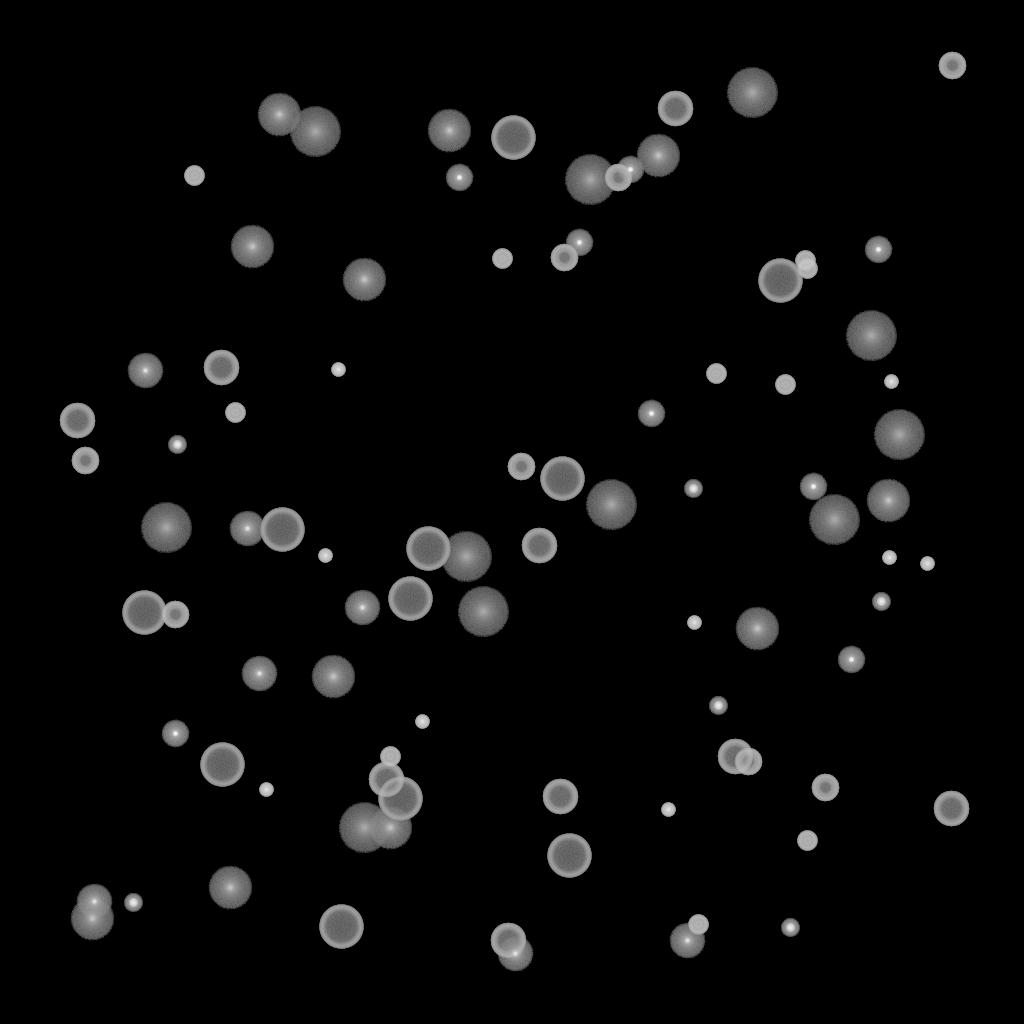depth:-10: (837, 646, 865, 674), (616, 156, 644, 184), (637, 400, 665, 428), (565, 229, 593, 257), (864, 236, 892, 264), (445, 164, 473, 192), (161, 720, 189, 748), (799, 473, 827, 501)
depth:-20: (684, 480, 702, 498), (168, 436, 186, 454), (124, 894, 142, 912), (872, 593, 890, 611), (709, 697, 727, 715), (781, 919, 799, 937)
depth:-30: (415, 715, 429, 729), (259, 783, 273, 797), (687, 616, 701, 630), (318, 549, 332, 563), (331, 363, 345, 377), (882, 551, 896, 565), (661, 803, 675, 817), (920, 557, 934, 571), (884, 375, 898, 389)
depth:-40: (688, 915, 708, 935), (492, 249, 512, 269), (184, 166, 204, 186), (797, 831, 817, 851), (380, 747, 400, 767), (795, 251, 815, 271), (706, 364, 726, 384), (775, 375, 795, 395), (225, 403, 245, 423), (797, 259, 817, 279)
depth:-50: (161, 601, 189, 629), (604, 164, 632, 192), (938, 52, 966, 80), (811, 774, 839, 802), (734, 748, 762, 776), (550, 244, 578, 272), (71, 447, 99, 475), (507, 453, 535, 481)
depth:-60: (203, 350, 239, 386), (717, 739, 753, 775), (542, 779, 578, 815), (59, 403, 95, 439), (657, 91, 693, 127), (933, 791, 969, 827), (521, 528, 557, 564), (368, 762, 404, 798), (490, 923, 526, 959)
depth:-70: (758, 259, 802, 303), (406, 527, 450, 571), (260, 508, 304, 552), (122, 591, 166, 635), (319, 905, 363, 949), (378, 777, 422, 821), (547, 834, 591, 878), (388, 577, 432, 621), (200, 743, 244, 787), (491, 116, 535, 160), (540, 457, 584, 501)
depth:0: (344, 590, 380, 626), (229, 511, 265, 547), (497, 936, 533, 972), (241, 656, 277, 692), (76, 884, 112, 920), (127, 353, 163, 389), (669, 923, 705, 959)
depth:10: (866, 479, 910, 523), (257, 93, 301, 137), (368, 806, 412, 850), (230, 225, 274, 269), (311, 655, 355, 699), (636, 134, 680, 178), (427, 109, 471, 153), (342, 258, 386, 302), (735, 607, 779, 651), (208, 866, 252, 910), (70, 897, 114, 941)
depth:20: (845, 311, 897, 361), (440, 532, 492, 582), (338, 803, 390, 853), (808, 495, 860, 545), (289, 107, 341, 157), (140, 503, 192, 553), (726, 68, 778, 118), (457, 587, 509, 637), (585, 480, 637, 530), (873, 410, 925, 460), (564, 155, 616, 205)
